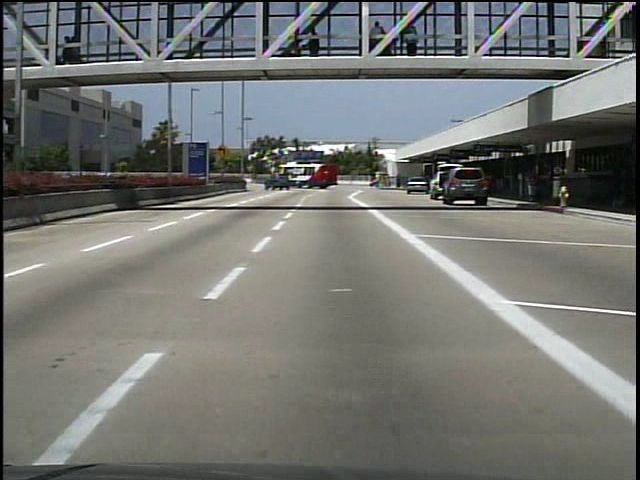person: (520, 160, 543, 204), (61, 31, 84, 68), (301, 24, 324, 61)
